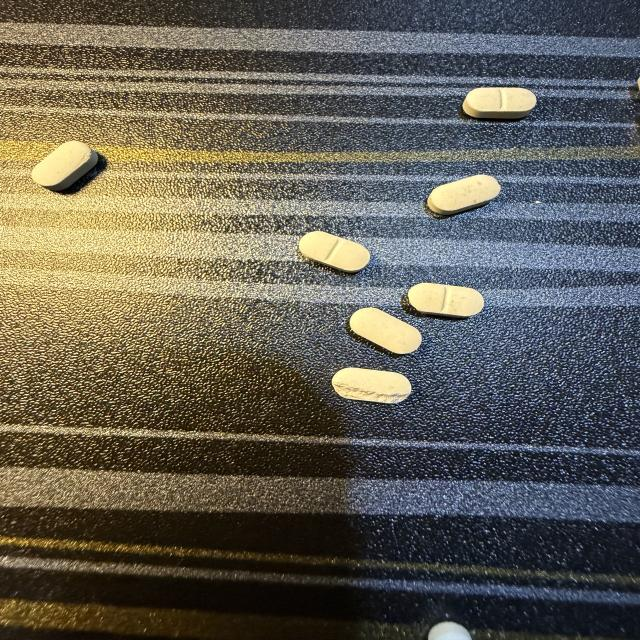pill: (349, 308, 421, 353), (32, 141, 97, 190), (427, 175, 500, 215), (299, 231, 370, 272), (332, 368, 411, 403), (408, 283, 484, 317), (463, 88, 536, 118), (428, 622, 471, 639)
